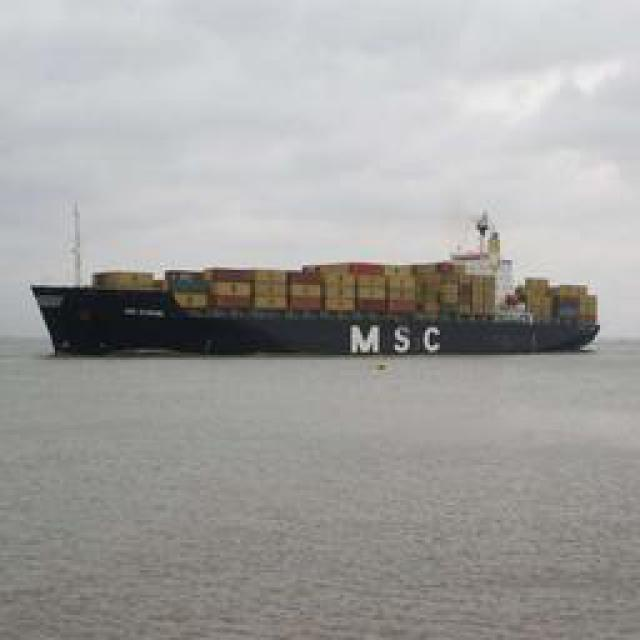Ship: (31, 222, 614, 360)
